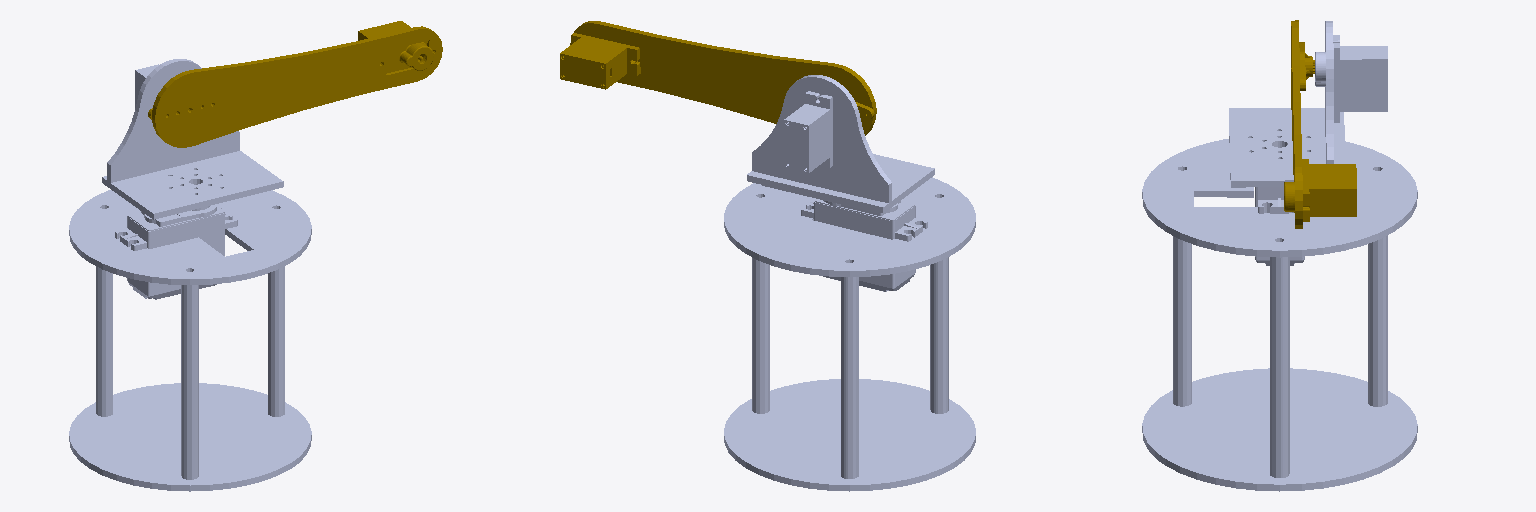
URDF robot description (manipulator):
<?xml version="1.0" encoding="utf-8"?>
<!-- This URDF was automatically created by SolidWorks to URDF Exporter! Originally created by [author] ([email redacted]) 
     Commit Version: 1.5.1-0-g916b5db  Build Version: 1.5.7152.31018
     For more information, please see http://wiki.ros.org/sw_urdf_exporter -->
<robot name="manipulator">
	<link name="world">
   </link>
	<link name="link_0">
		<inertial>
			<!-- <origin xyz="-0.0021206 0.0002459 0.064773" rpy="0 0 0" /> -->
			<mass value="0.09286" />
			<inertia ixx="5.326E-05" ixy="-1.315E-07" ixz="-2.2253E-08" iyy="5.6454E-05" iyz="-6.8881E-23" izz="8.948E-05" /> 
			<!-- <mass value="0.0"/> -->
			<!-- <inertia ixx="0.0" ixy="0.0" ixz="0.0" iyy="0.0" iyz="0.0" izz="0.0"/> -->
		</inertial>
		<visual>
			<origin xyz="0 0 0" rpy="0 0 0" />
			<geometry>
				<mesh filename="package://simulation_rviz/meshes/link_0.STL" />
			</geometry>
			<material name="">
				<color rgba="0.79216 0.81961 0.93333 1" />
			</material>
		</visual>
		<collision>
			<origin xyz="0 0 0" rpy="0 0 0" />
			<geometry>
				<mesh filename="package://simulation_rviz/meshes/link_0.STL" />
			</geometry>
		</collision>
	</link>
	<joint name="dummy_joint" type="fixed">
     <parent link="world"/>
     <child link="link_0"/>
   </joint>
	<link name="link_1">
		<inertial>
			<origin xyz="-1.4162E-05 0.0091539 0.0097543" rpy="0 0 0" />
			<mass value="0.021123" />
			<inertia ixx="3.515E-06" ixy="2.2398E-16" ixz="-1.8348E-15" iyy="7.5839E-06" iyz="2.8002E-09" izz="7.0937E-06" />
		</inertial>
		<visual>
			<origin xyz="0 0 0" rpy="0 0 0" />
			<geometry>
				<mesh filename="package://simulation_rviz/meshes/link_1.STL" />
			</geometry>
			<material name="">
				<color rgba="0.79216 0.81961 0.93333 1" />
			</material>
		</visual>
		<collision>
			<origin xyz="0 0 0" rpy="0 0 0" />
			<geometry>
				<mesh filename="package://simulation_rviz/meshes/link_1.STL" />
			</geometry>
		</collision>
	</link>
	<joint name="joint_1" type="revolute">
		<origin xyz="0.0029256 -5.3727E-05 0.1232" rpy="0 0 0.011222" />
		<parent link="link_0" />
		<child link="link_1" />
		<axis xyz="0 0 1" />
		<limit lower="0.0" upper="3.14159265359" effort="1.0" velocity="1.0"/>
	</joint>
	<link name="link_2">
		<inertial>
			<origin xyz="0.040762 9.3746E-11 0.00077048" rpy="0 0 0" />
			<mass value="0.016936" />
			<inertia ixx="1.0452E-06" ixy="1.6239E-15" ixz="-2.8002E-09" iyy="1.958E-05" iyz="2.8964E-16" izz="2.0421E-05" />
		</inertial>
		<visual>
			<origin xyz="0 0 0" rpy="0 0 0" />
			<geometry>
				<mesh filename="package://simulation_rviz/meshes/link_2.STL" />
			</geometry>
			<material name="">
				<color rgba="0.64706 0.51765 0 1" />
			</material>
		</visual>
		<collision>
			<origin xyz="0 0 0" rpy="0 0 0" />
			<geometry>
				<mesh filename="package://simulation_rviz/meshes/link_2.STL" />
			</geometry>
		</collision>
	</link>
	<joint name="joint_2" type="revolute">
		<origin xyz="-0.00029839 0.01004 0.039318" rpy="1.5708 0.0098142 0" />
		<parent link="link_1" />
		<child link="link_2" />
		<axis xyz="0 0 1" />
		<limit lower="0.0" upper="3.14159265359" effort="1.0" velocity="0.0"/>
	</joint>
	<link name="link_3">
		<inertial>
			<origin xyz="0.01702 0.00029705 -0.0010045" rpy="0 0 0" />
			<mass value="0.0089186" />
			<inertia ixx="2.3882E-07" ixy="-7.0517E-08" ixz="5.0478E-20" iyy="4.278E-06" iyz="-3.9823E-20" izz="4.3426E-06" />
		</inertial>
		<visual>
			<origin xyz="0 0 0" rpy="0 0 0" />
			<geometry>
				<mesh filename="package://simulation_rviz/meshes/link_3.STL" />
			</geometry>
			<material name="">
				<color rgba="0.50196 0.50196 0.50196 1" />
			</material>
		</visual>
		<collision>
			<origin xyz="0 0 0" rpy="0 0 0" />
			<geometry>
				<mesh filename="package://simulation_rviz/meshes/link_3.STL" />
			</geometry>
		</collision>
	</link>
	<joint name="joint_3" type="revolute">
		<origin xyz="0.1199 0 0.01365" rpy="0 0 -1.57079632679" />
		<parent link="link_2" />
		<child link="link_3" />
		<axis xyz="0 0 1" />
		<limit lower="0.0" upper="3.14159265359" effort="1.0" velocity="0.0"/>
	</joint>

	<link name="link_4">
		<inertial>
			<origin xyz="0.01702 0.00029705 -0.0010045" rpy="0 0 0" />
			<mass value="0.0089186" />
			<inertia ixx="2.3882E-07" ixy="-7.0517E-08" ixz="5.0478E-20" iyy="4.278E-06" iyz="-3.9823E-20" izz="4.3426E-06" />
		</inertial>
		<visual>
			<origin xyz="0 0 0" rpy="0 0 0" />
			<geometry>
				<cylinder radius="0" length="0"/>
			</geometry>
			<material name="">
				<color rgba="0.50196 0.50196 0.50196 1" />
			</material>
		</visual>
		<collision>
			<origin xyz="0 0 0" rpy="0 0 0" />
			<geometry>
				<cylinder radius="0" length="0"/>
			</geometry>
		</collision>
	</link>

	<joint name="joint_4" type="fixed">
		<origin xyz="0.0899 0.002 0.0037" rpy="0 0 0" />
		<parent link="link_3" />
		<child link="link_4" />
	</joint>
	<gazebo>
    	<plugin name="gazebo_ros_control" filename="libgazebo_ros_control.so">
      		<robotNamespace>/manipulator</robotNamespace>
    	</plugin>
  	</gazebo>
	<transmission name="joint_1_trans">
		<type>transmission_interface/SimpleTransmission</type>
		<joint name="joint_1">
			<hardwareInterface>hardware_interface/EffortJointInterface</hardwareInterface>
		</joint>
		<actuator name="joint_1_motor">
			<mechanicalReduction>2</mechanicalReduction>
			<hardwareInterface>hardware_interface/EffortJointInterface</hardwareInterface>
		</actuator>
	</transmission>
	<transmission name="joint_2_trans">
		<type>transmission_interface/SimpleTransmission</type>
		<joint name="joint_2">
			<hardwareInterface>hardware_interface/EffortJointInterface</hardwareInterface>
		</joint>
		<actuator name="joint_2_motor">
			<mechanicalReduction>2</mechanicalReduction>
			<hardwareInterface>hardware_interface/EffortJointInterface</hardwareInterface>
		</actuator>
	</transmission>
	<transmission name="joint_3_trans">
		<type>transmission_interface/SimpleTransmission</type>
		<joint name="joint_3">
			<hardwareInterface>hardware_interface/EffortJointInterface</hardwareInterface>
		</joint>
		<actuator name="joint_3_motor">
			<mechanicalReduction>2</mechanicalReduction>
			<hardwareInterface>hardware_interface/EffortJointInterface</hardwareInterface>
		</actuator>
	</transmission>
	<!-- <transmission name="joint_4_trans">
			<type>transmission_interface/SimpleTransmission</type>
			<joint name="joint_4">
				<hardwareInterface>hardware_interface/EffortJointInterface</hardwareInterface>
			</joint>
			<actuator name="joint_4_motor">
				<mechanicalReduction>2</mechanicalReduction>
				<hardwareInterface>hardware_interface/EffortJointInterface</hardwareInterface>
			</actuator>
	</transmission> -->
  <!-- ROS Control plugin for Gazebo -->
  
</robot>

--- Render facts (derived) ---
3 views of the same robot in one strip: view 1: azimuth 30°, elevation 25°; view 2: azimuth 150°, elevation 25°; view 3: azimuth 270°, elevation 25° (orthographic).
Model manipulator with 6 links and 5 joints (3 revolute, 2 fixed), rooted at world, posed every joint at zero.
Visible links, largest first — view 1: link_0, link_2, link_1; view 2: link_0, link_2, link_1; view 3: link_0, link_1, link_2.
Link boxes in pixels (<box>): link_0: <box>69,190,311,491</box>; link_2: <box>148,21,442,147</box>; link_1: <box>102,59,283,219</box>; link_0: <box>724,177,975,491</box>; link_2: <box>560,21,876,135</box>; link_1: <box>747,75,934,213</box>; link_0: <box>1142,139,1417,491</box>; link_1: <box>1229,21,1387,187</box>; link_2: <box>1284,20,1356,228</box>.
Size in the robot's own frame: 0.1906 by 0.1099 by 0.181 metres.
3 mesh visuals loaded from 4 distinct referenced files (3 binary STL); not drawn: 1 (reference not matched to a file when rendering).
